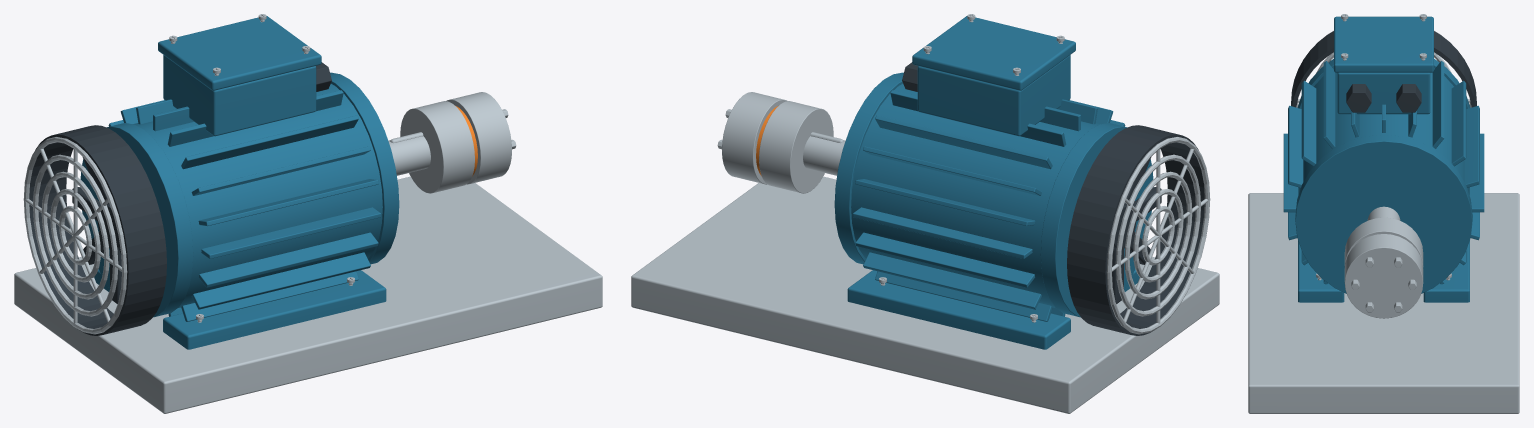
The model's file is 13_electric_motor_coupling.glb.
The picture shows the model from 3 angles, left to right: view 1: azimuth 30°, elevation 25°; view 2: azimuth 150°, elevation 25°; view 3: azimuth 270°, elevation 25°; orthographic projection. The views are drawn at different scales.
Parts seen in each view (by area): view 1: Mounting_BasePlate, Motor_MainHousing, Fan_Shroud, Terminal_Box_Lid, Terminal_Box, Motor_MountingFoot_-0.088, Motor_EndShield_-0.15, Coupling_MotorHub, Motor_EndShield_0.15, Coupling_DrivenHub, Cooling_Fin_12, Cooling_Fin_11 (+14 smaller); view 2: Mounting_BasePlate, Motor_MainHousing, Fan_Shroud, Terminal_Box_Lid, Terminal_Box, Motor_MountingFoot_0.088, Motor_EndShield_-0.15, Coupling_MotorHub, Motor_EndShield_0.15, Coupling_DrivenHub, Cooling_Fin_18, Cooling_Fin_19 (+14 smaller); view 3: Mounting_BasePlate, Motor_EndShield_0.15, Terminal_Box_Lid, Coupling_DrivenHub, Motor_MainHousing, Terminal_Box, Fan_Shroud, Coupling_MotorHub, Motor_MountingFoot_-0.088, Motor_MountingFoot_0.088, Cooling_Fin_2, Cooling_Fin_8 (+10 smaller).
Part boxes in pixels (bbox=[...]): Mounting_BasePlate: bbox=[14, 176, 602, 413]; Motor_MainHousing: bbox=[133, 84, 382, 307]; Fan_Shroud: bbox=[29, 125, 166, 335]; Terminal_Box_Lid: bbox=[158, 16, 321, 90]; Terminal_Box: bbox=[163, 55, 316, 136]; Motor_MountingFoot_-0.088: bbox=[163, 270, 386, 349]; Motor_EndShield_-0.15: bbox=[80, 123, 193, 317]; Coupling_MotorHub: bbox=[400, 101, 474, 193]; Motor_EndShield_0.15: bbox=[330, 72, 399, 264]; Coupling_DrivenHub: bbox=[446, 92, 511, 184]; Cooling_Fin_12: bbox=[192, 252, 370, 309]; Cooling_Fin_11: bbox=[198, 232, 378, 287]; Mounting_BasePlate: bbox=[631, 176, 1219, 413]; Motor_MainHousing: bbox=[851, 84, 1100, 307]; Fan_Shroud: bbox=[1067, 125, 1204, 335]; Terminal_Box_Lid: bbox=[912, 16, 1075, 90]; Terminal_Box: bbox=[917, 55, 1070, 136]; Motor_MountingFoot_0.088: bbox=[847, 270, 1070, 349]; Motor_EndShield_-0.15: bbox=[1040, 123, 1153, 317]; Coupling_MotorHub: bbox=[759, 101, 833, 193]; Motor_EndShield_0.15: bbox=[834, 72, 903, 264]; Coupling_DrivenHub: bbox=[722, 92, 787, 184]; Cooling_Fin_18: bbox=[863, 252, 1041, 309]; Cooling_Fin_19: bbox=[855, 232, 1035, 287]; Mounting_BasePlate: bbox=[1248, 193, 1519, 413]; Motor_EndShield_0.15: bbox=[1295, 135, 1472, 293]; Terminal_Box_Lid: bbox=[1334, 16, 1433, 72]; Coupling_DrivenHub: bbox=[1344, 234, 1423, 318]; Motor_MainHousing: bbox=[1298, 68, 1469, 194]; Terminal_Box: bbox=[1337, 72, 1430, 114]; Fan_Shroud: bbox=[1291, 31, 1476, 107]; Coupling_MotorHub: bbox=[1344, 217, 1423, 267]; Motor_MountingFoot_-0.088: bbox=[1298, 240, 1344, 302]; Motor_MountingFoot_0.088: bbox=[1423, 240, 1469, 302]; Cooling_Fin_2: bbox=[1451, 80, 1466, 166]; Cooling_Fin_8: bbox=[1301, 80, 1316, 166].
Size of the model in its own units: 0.6625 by 0.3905 by 0.38.
